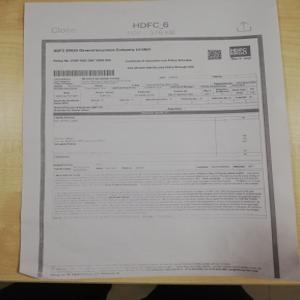image: (228, 44, 254, 59)
table: (51, 107, 261, 170), (53, 72, 261, 111)
text: (52, 47, 152, 55)
